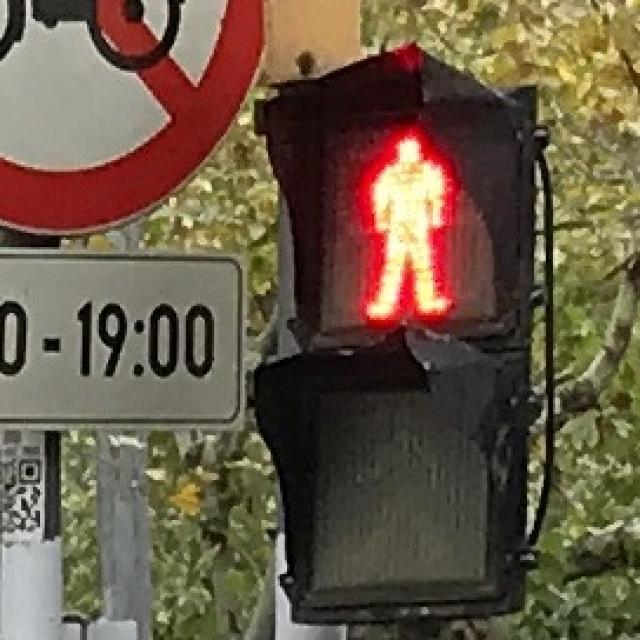red_light: (322, 108, 499, 336)
